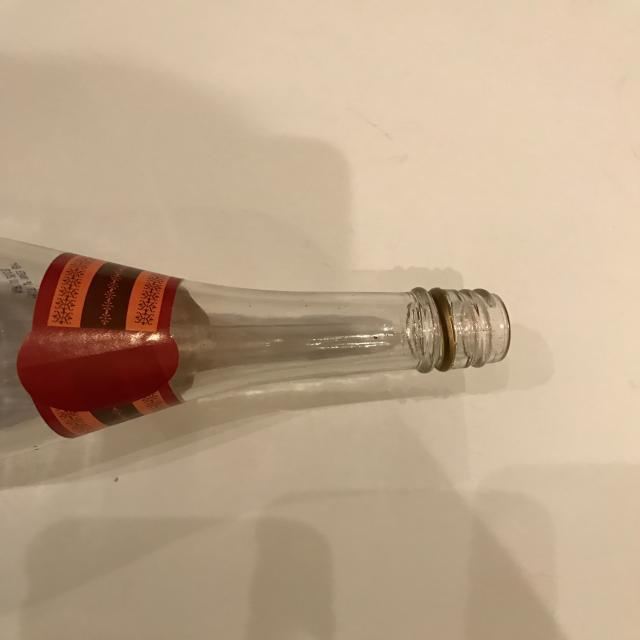glass: (2, 236, 516, 474)
